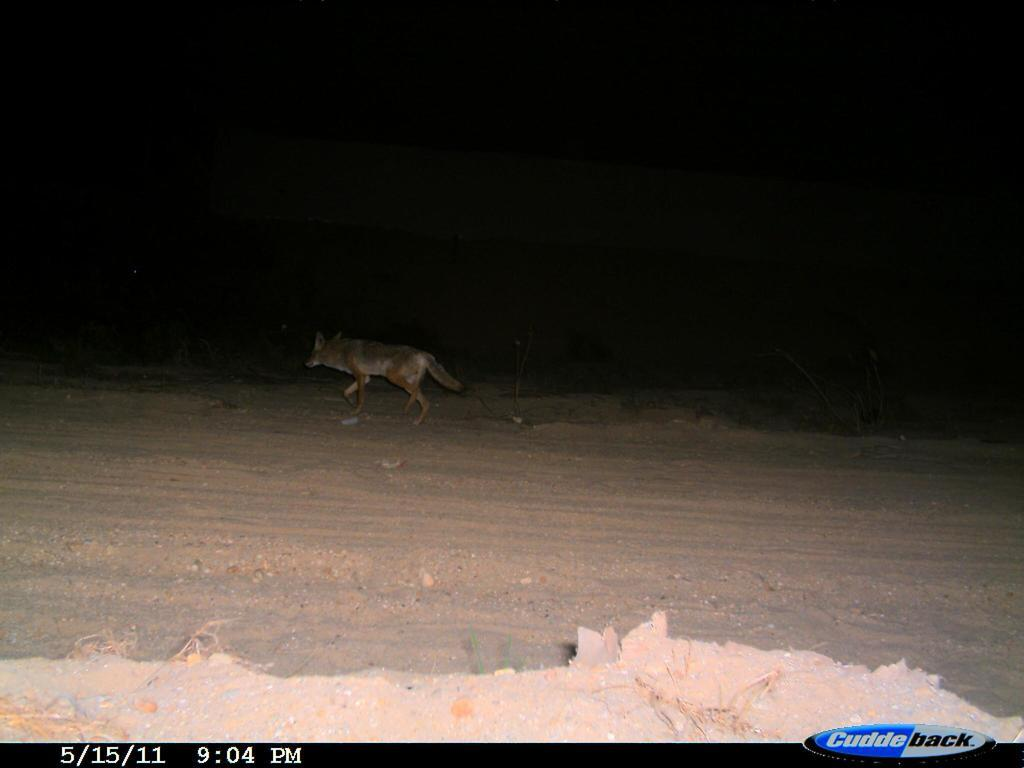coyote: (292, 315, 472, 440)
